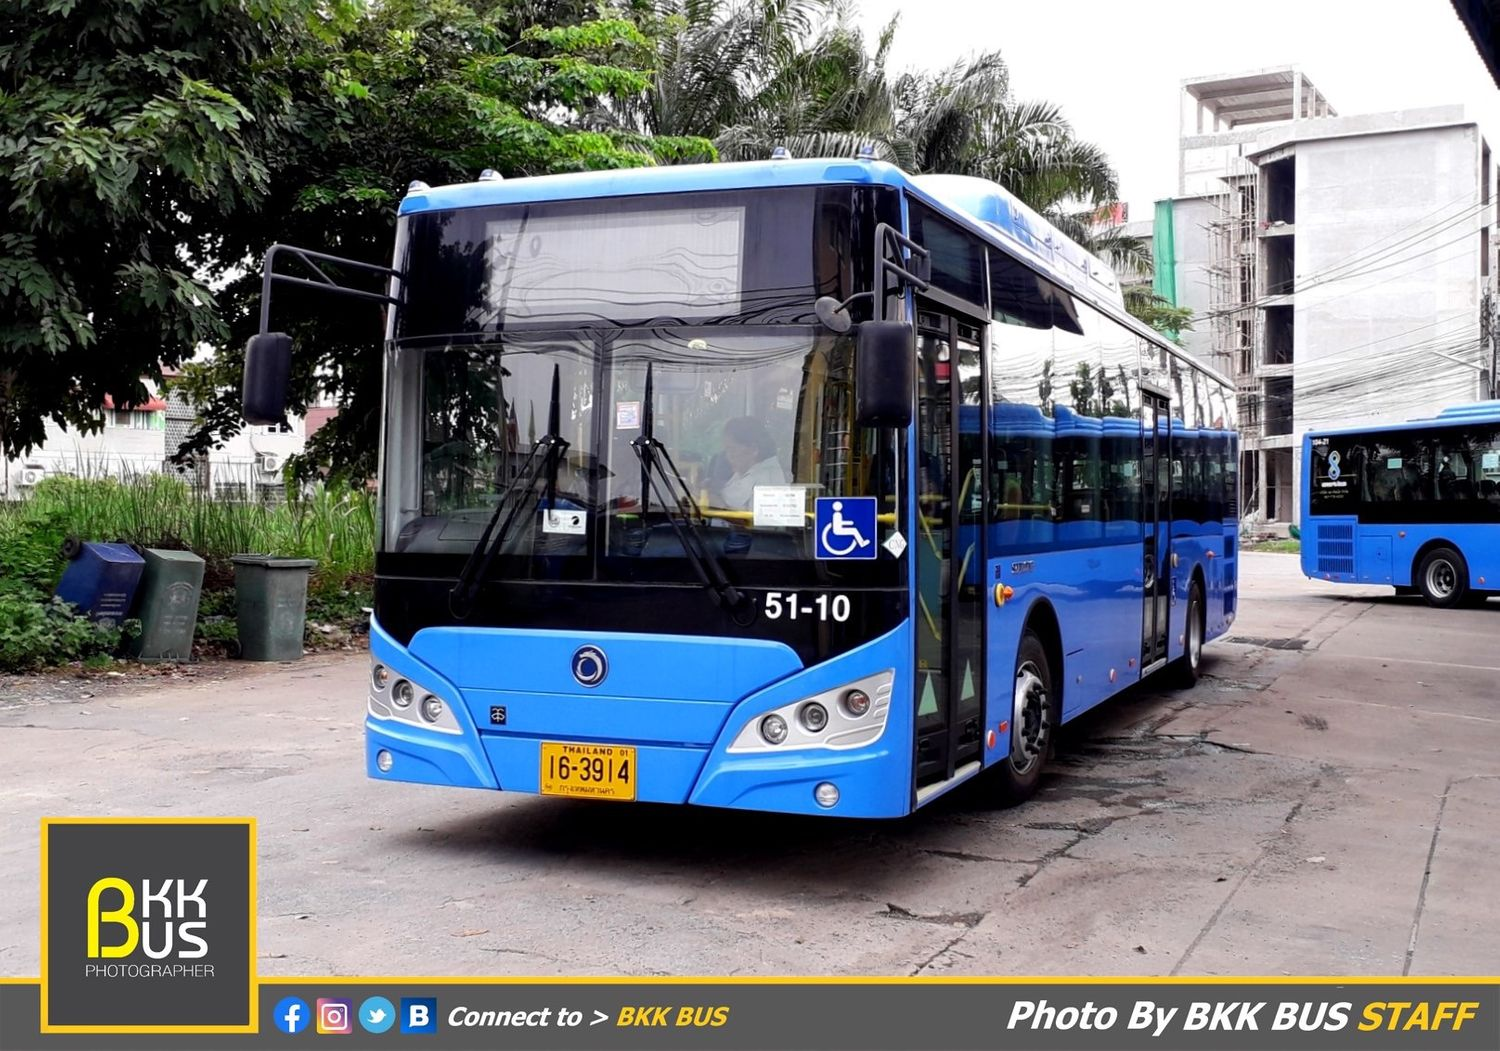bus: (361, 147, 1242, 823)
